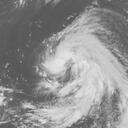cyclone: (40, 27, 121, 99)
